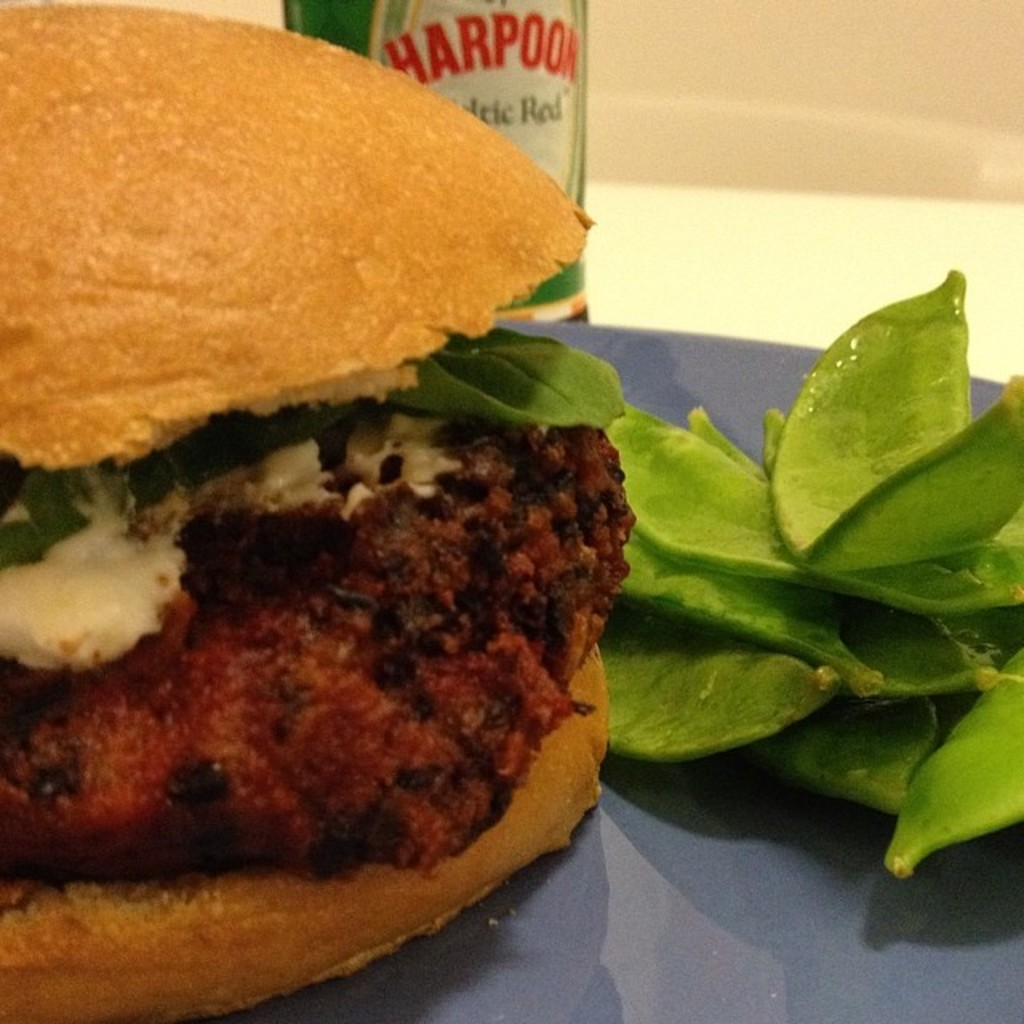Hamburger: (0, 0, 641, 1022)
